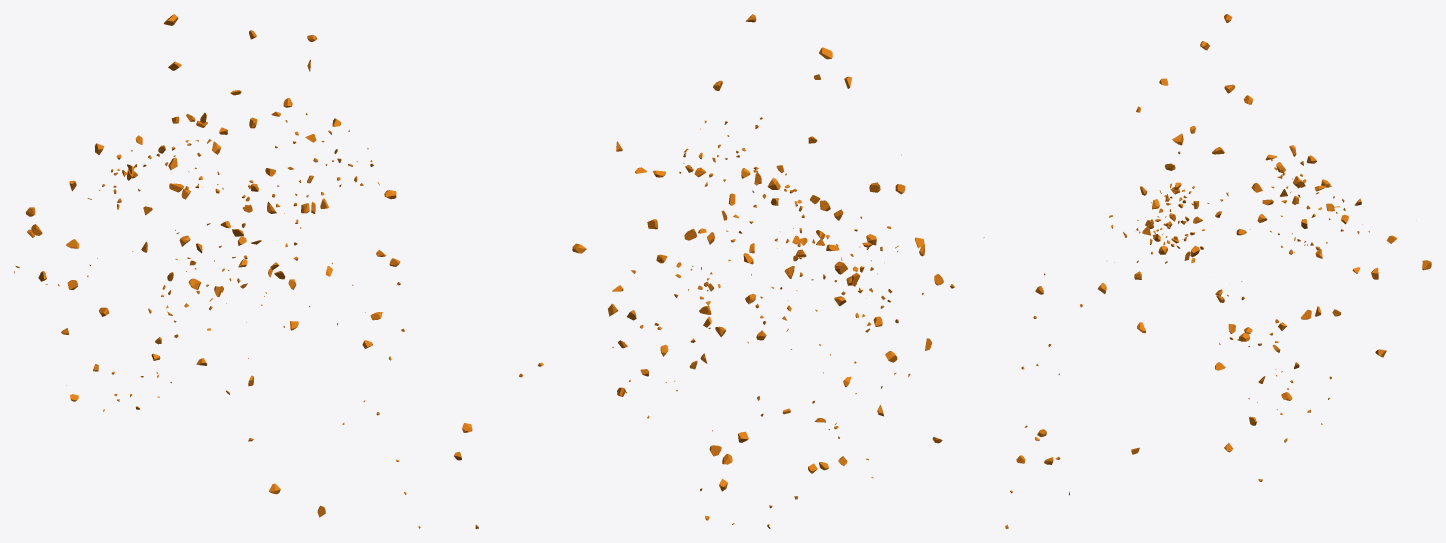
File: Explode_Cube.f0031.glb
The picture shows the model from 3 angles, left to right: view 1: azimuth 30°, elevation 25°; view 2: azimuth 150°, elevation 25°; view 3: azimuth 270°, elevation 25°; orthographic projection. The views are drawn at different scales.
Size of the model in its own units: 16.98 by 19.18 by 18.01.
